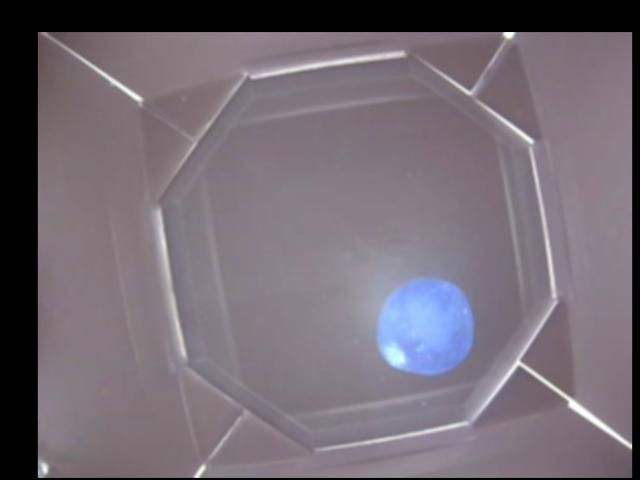Potato: (377, 277, 475, 375)
